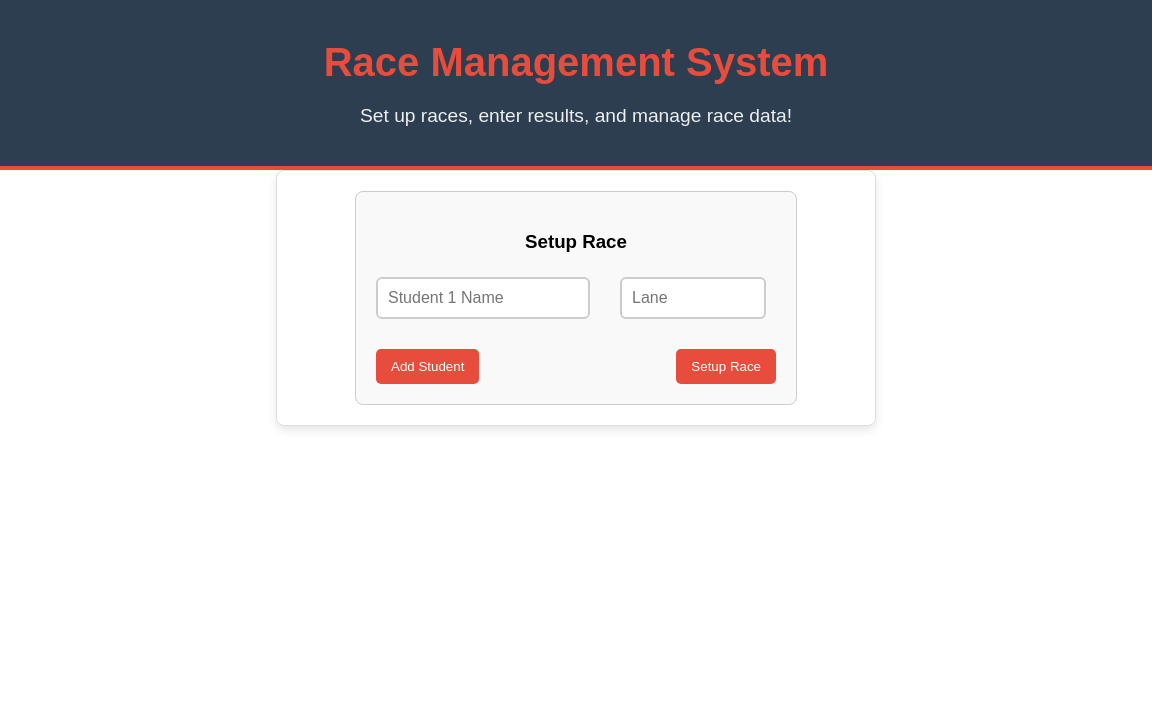
it: Race Setup › should allow adding students and lanes
Click the button with class "add-btn": [428, 367] box [376,349,479,384]
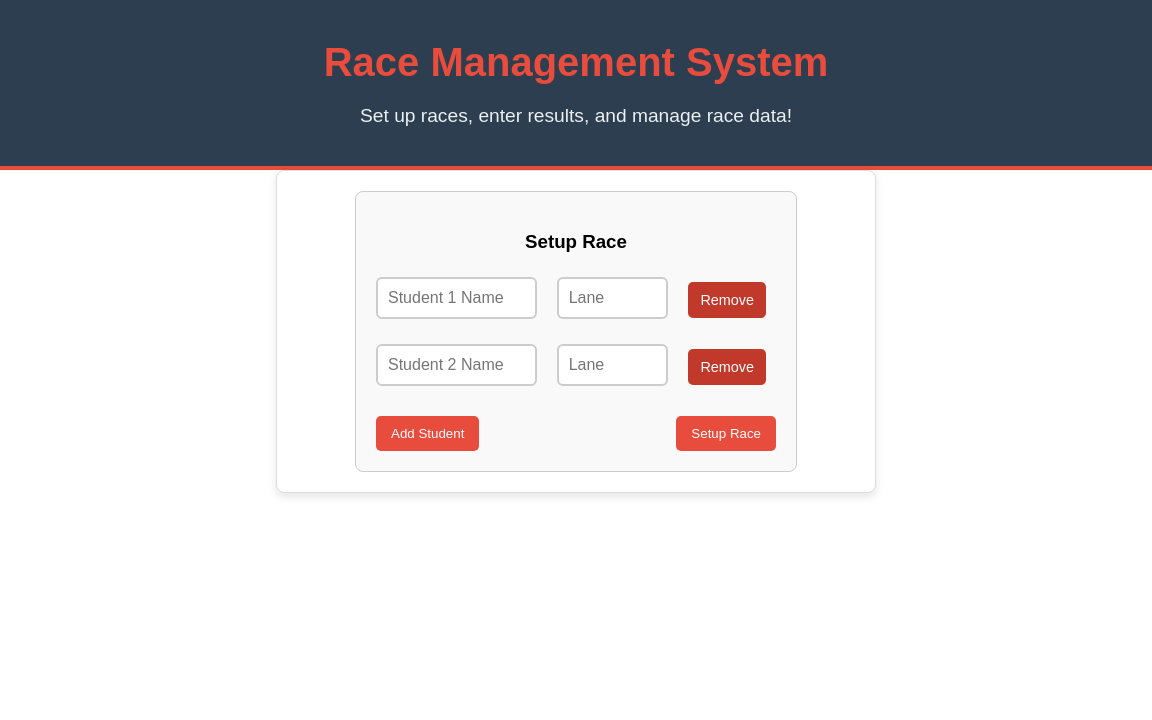
# Fill in student names and lanes
In the field with placeholder "Student 1 Name": [457, 298] box [376,277,537,319], type "John"
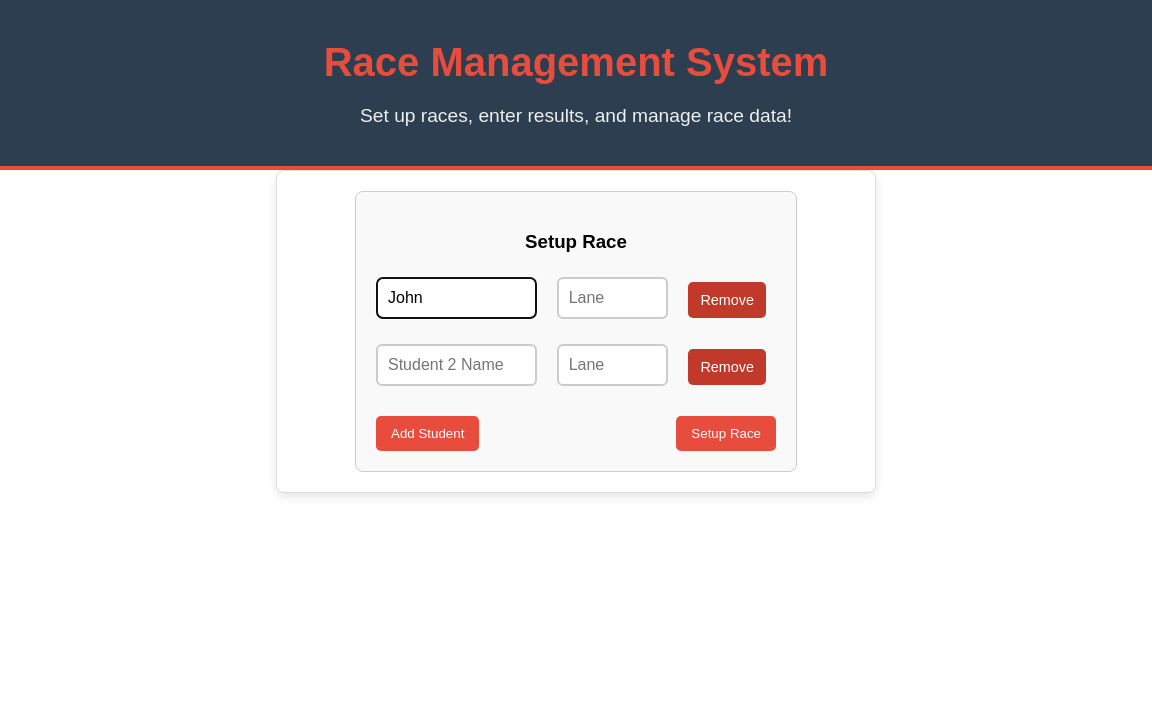
In the 1st number field with placeholder "Lane": [613, 298] box [557,277,669,319], type "1"
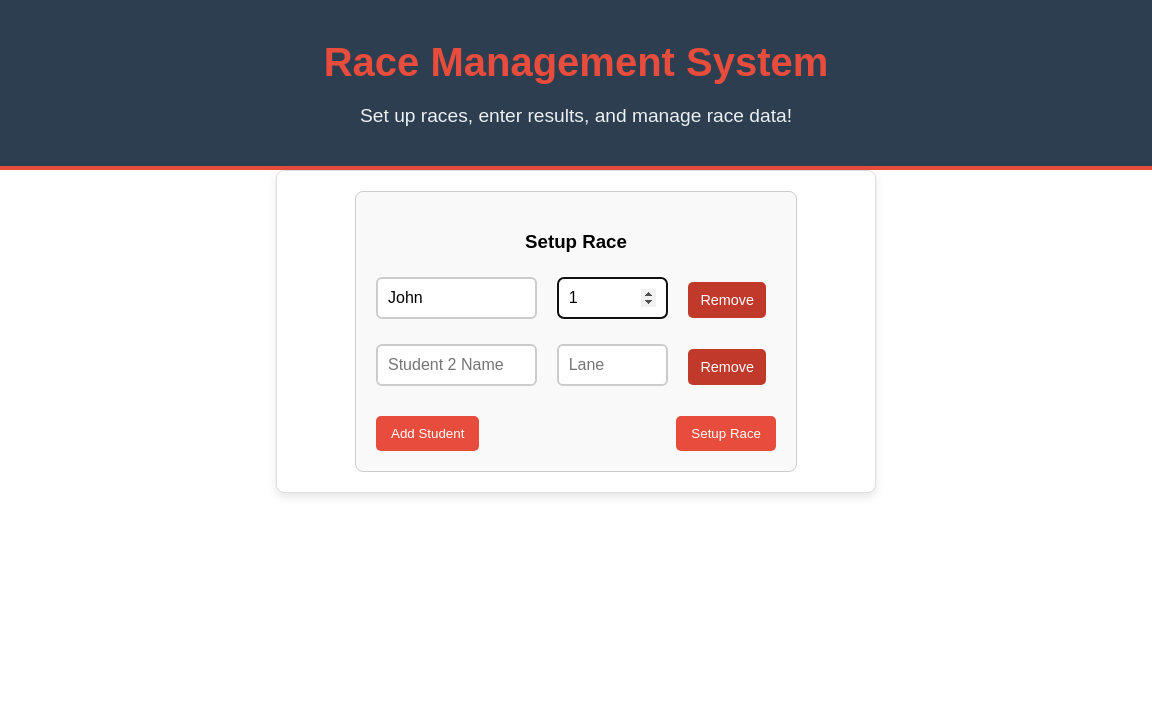
In the field with placeholder "Student 2 Name": [457, 365] box [376,344,537,386], type "Jane"
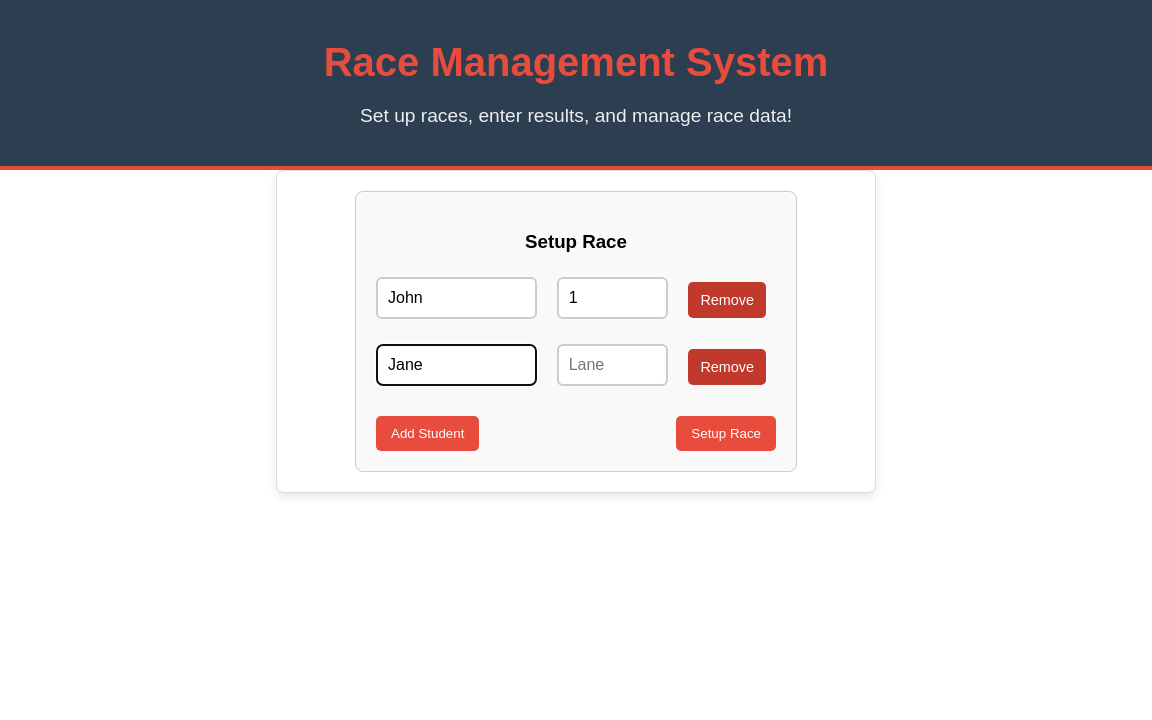
In the number field with placeholder "Lane": [613, 365] box [557,344,669,386], type "2"
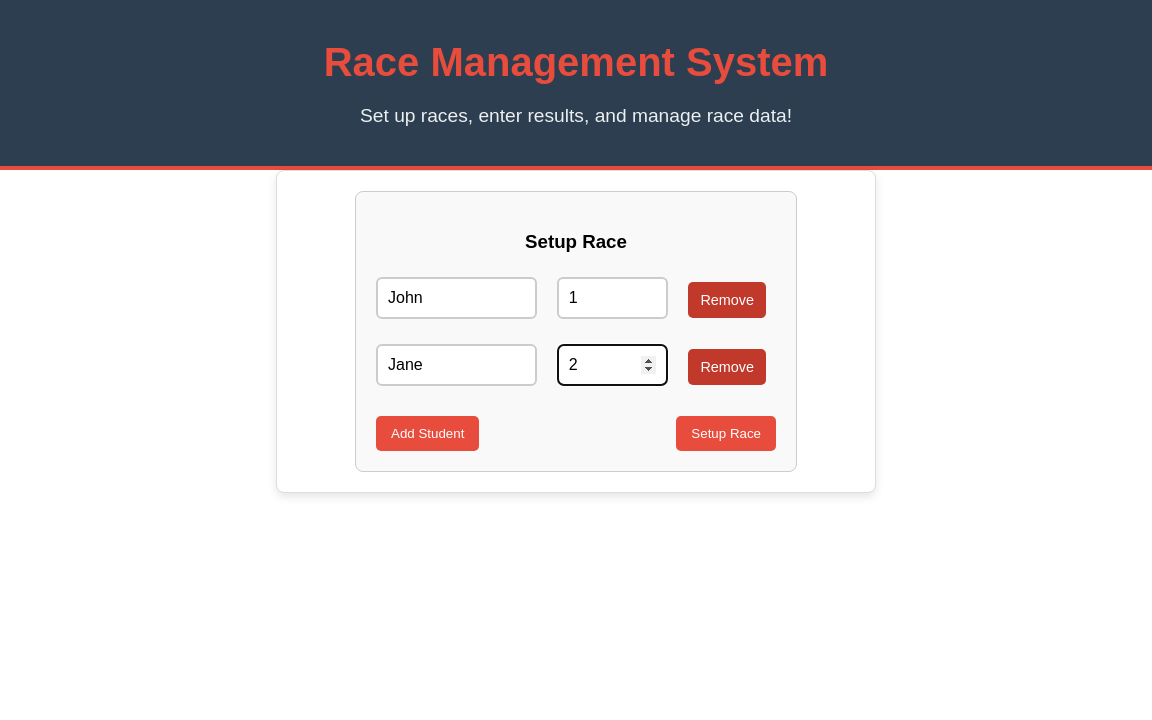
# Submit the race setup form
Click the button with class "submit-btn": [726, 434] box [676,416,776,451]
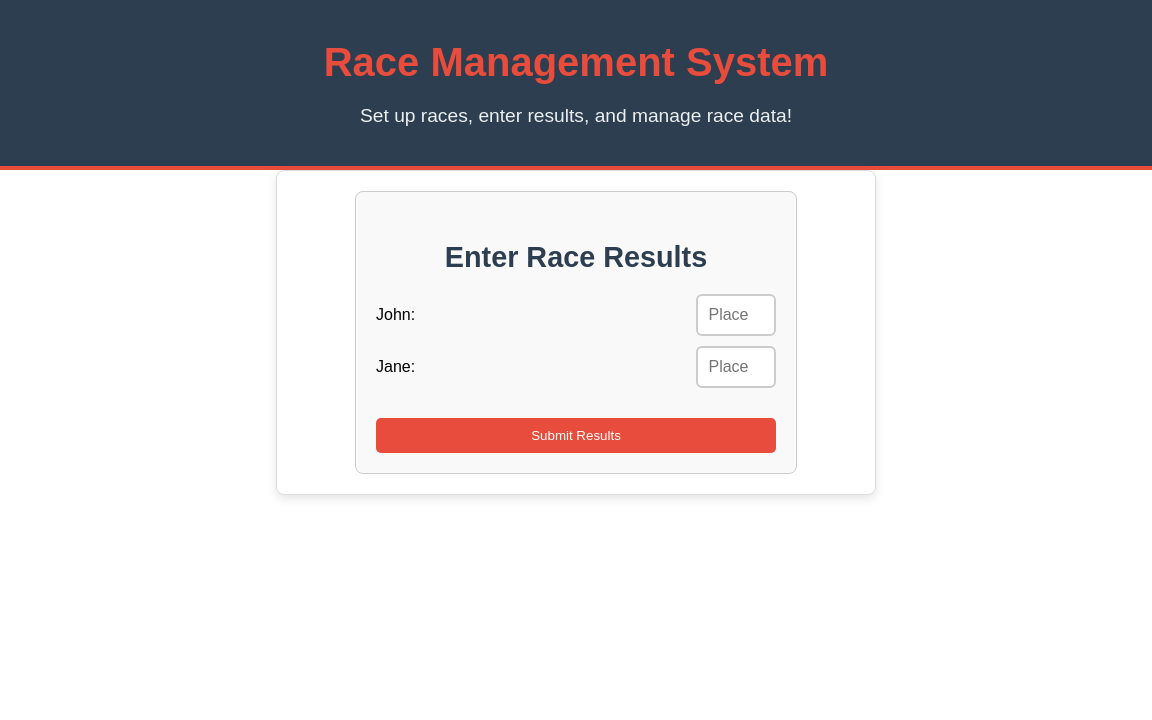
Expected: the element with class "race-results-container" is shown, [355,191,797,474]
